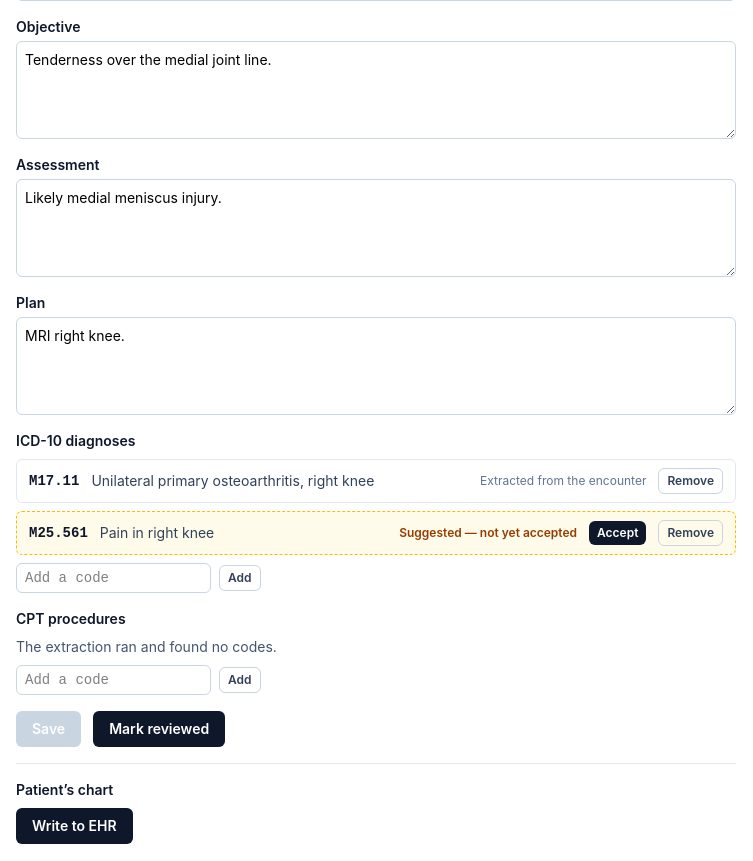
Test case: writing to the chart › never offers the write again after a record failure
(page scrolled)
Expected: the text box with test id "section-soapPlan" is shown, [16, 317, 736, 415]
Click the button with test id "write-to-ehr".
click(74, 826)  # box [16, 808, 133, 844]
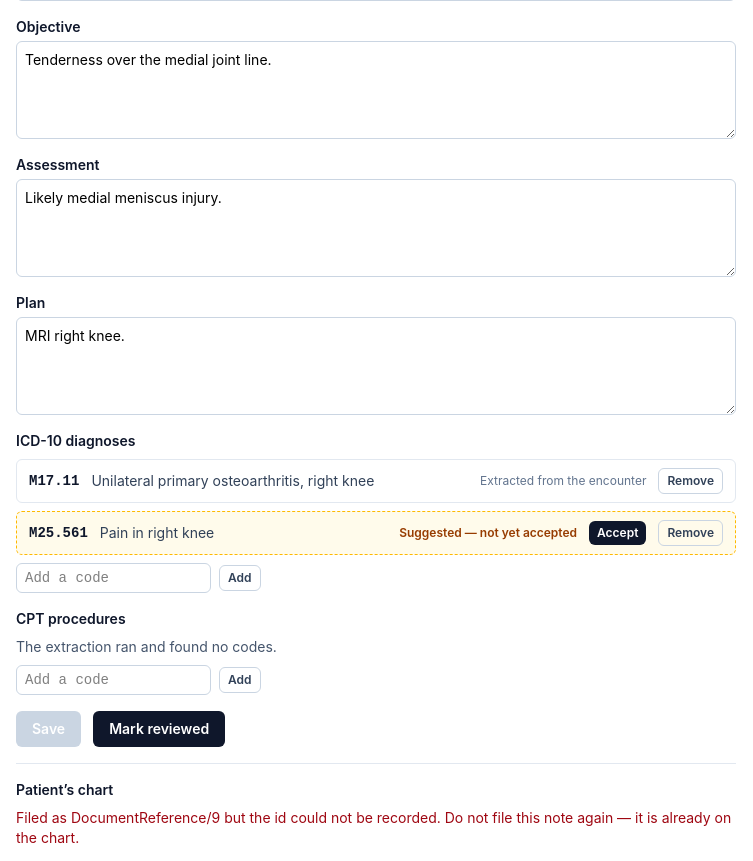
Expected: the message with test id "write-unrecorded" shows "Filed as DocumentReference/9 but the id could not be recorded.", [16, 809, 441, 826]
Expected: the button with test id "write-to-ehr" is gone
